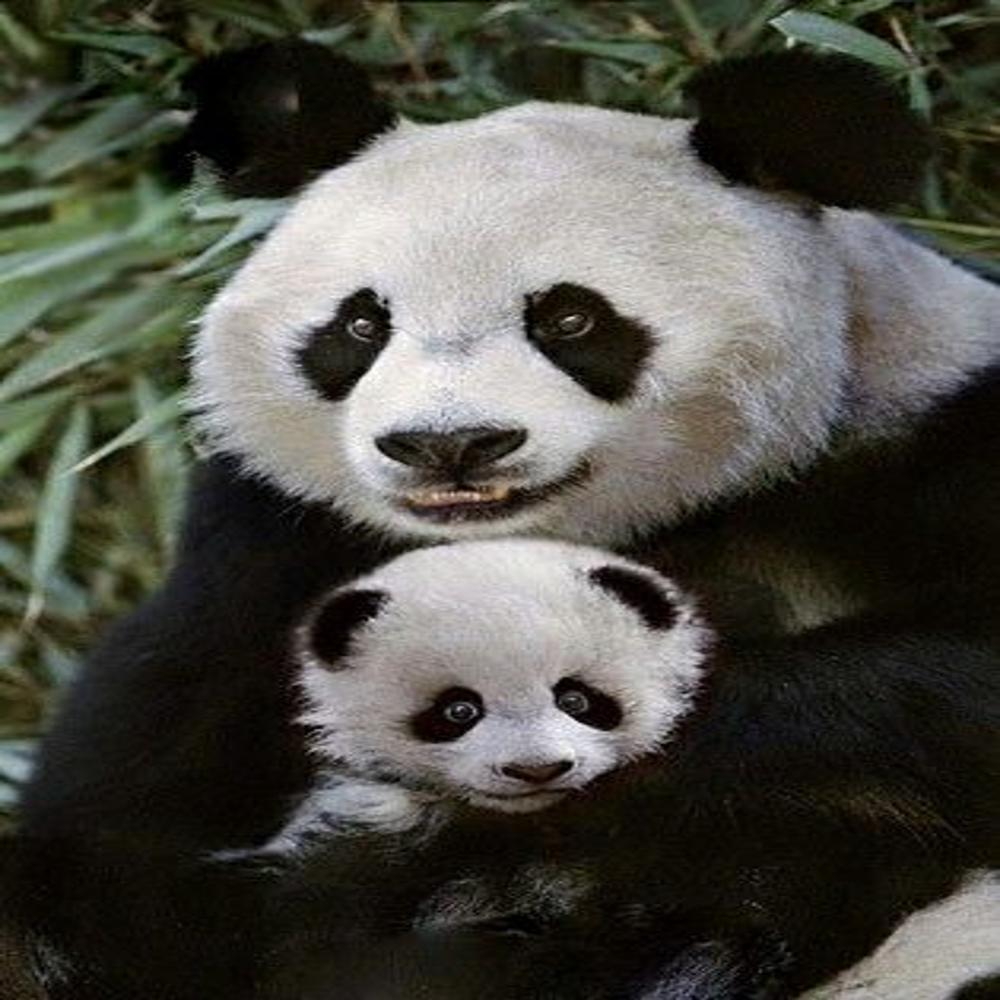panda: (58, 40, 1000, 985)
